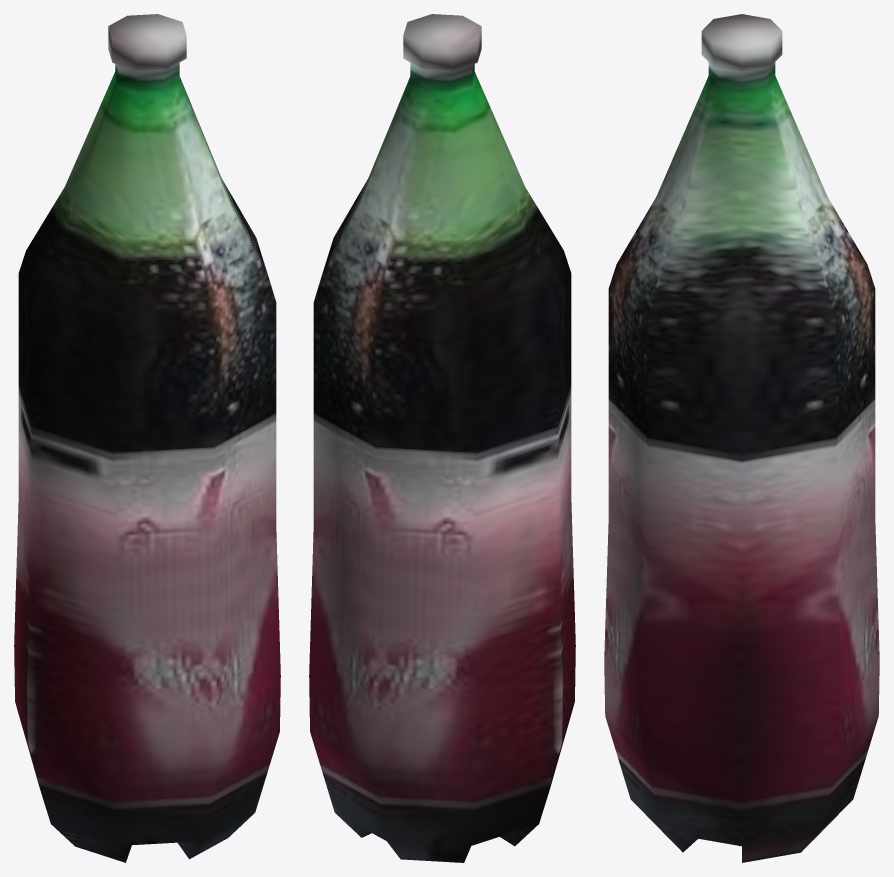
The model's file is Soda_02.glb.
3 views of the same model, side by side, from view 1: azimuth 30°, elevation 25°; view 2: azimuth 150°, elevation 25°; view 3: azimuth 270°, elevation 25° (orthographic).
Parts seen in each view (by area): view 1: Soda_02; view 2: Soda_02; view 3: Soda_02.
Boxes of the visible parts, x1=… form: Soda_02: x1=14, y1=14, x2=280, y2=862; Soda_02: x1=309, y1=14, x2=575, y2=862; Soda_02: x1=604, y1=14, x2=879, y2=862.
Bounding box in the file's own units: 0.1943 × 0.6197 × 0.1943.
Materials: 1 (1 with a texture image).
